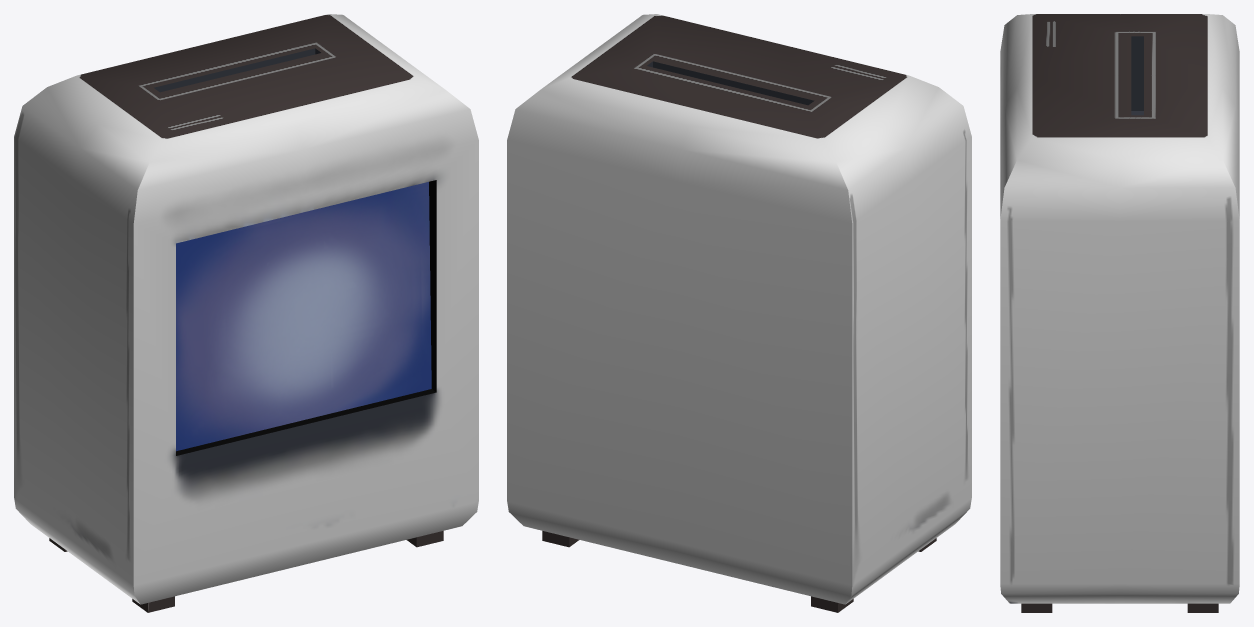
The model's file is timeCard.obj.
3 views of the same model, side by side, from view 1: azimuth 30°, elevation 25°; view 2: azimuth 150°, elevation 25°; view 3: azimuth 270°, elevation 25° (orthographic).
Visible parts, largest first — view 1: Cube; view 2: Cube; view 3: Cube.
Part boxes in pixels (x1=…): Cube: x1=14, y1=14, x2=478, y2=612; Cube: x1=507, y1=14, x2=971, y2=612; Cube: x1=1000, y1=14, x2=1239, y2=612.
Bounding box in the file's own units: 0.26 × 0.3339 × 0.156.
1 material, 1 textured.
